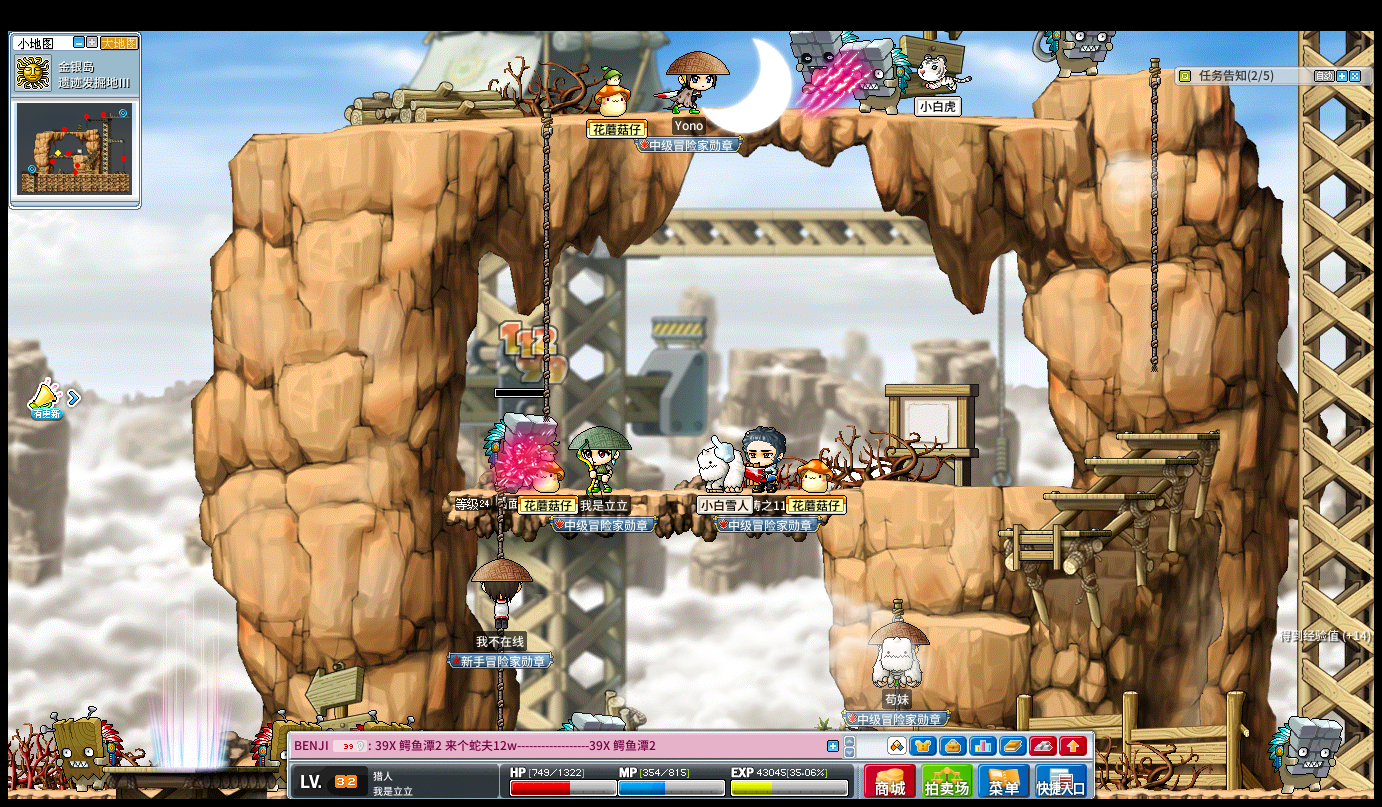floor: (244, 106, 1088, 141), (449, 487, 827, 499), (924, 613, 1029, 634), (906, 482, 1076, 492), (1056, 68, 1167, 81), (1114, 429, 1221, 441), (1077, 456, 1194, 464), (1042, 492, 1154, 500), (996, 528, 1108, 536)
monster: (42, 709, 120, 790), (1268, 716, 1341, 791), (483, 411, 556, 484), (798, 30, 852, 109), (859, 38, 910, 113), (793, 27, 836, 109)
rope: (1146, 56, 1160, 377), (541, 104, 551, 416), (541, 107, 551, 314), (491, 484, 504, 559), (494, 668, 504, 723)
